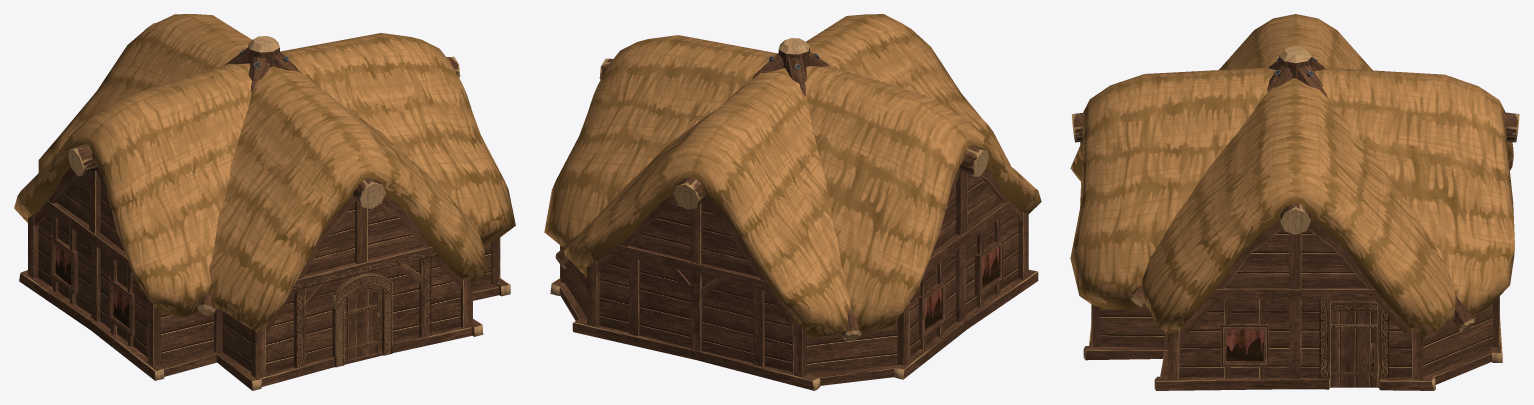
Rendered from House4.fbx.
3 views of the same model, side by side, from view 1: azimuth 30°, elevation 25°; view 2: azimuth 150°, elevation 25°; view 3: azimuth 270°, elevation 25° (orthographic). The views are drawn at different scales.
Parts seen in each view (by area): view 1: WoodCover.003; view 2: WoodCover.003; view 3: WoodCover.003.
Part boxes in pixels (left/top/right/bottom): WoodCover.003: left=14, top=14, right=515, bottom=390; WoodCover.003: left=544, top=14, right=1041, bottom=390; WoodCover.003: left=1070, top=14, right=1519, bottom=390.
Bounding box in the file's own units: 717 × 444 × 716.
